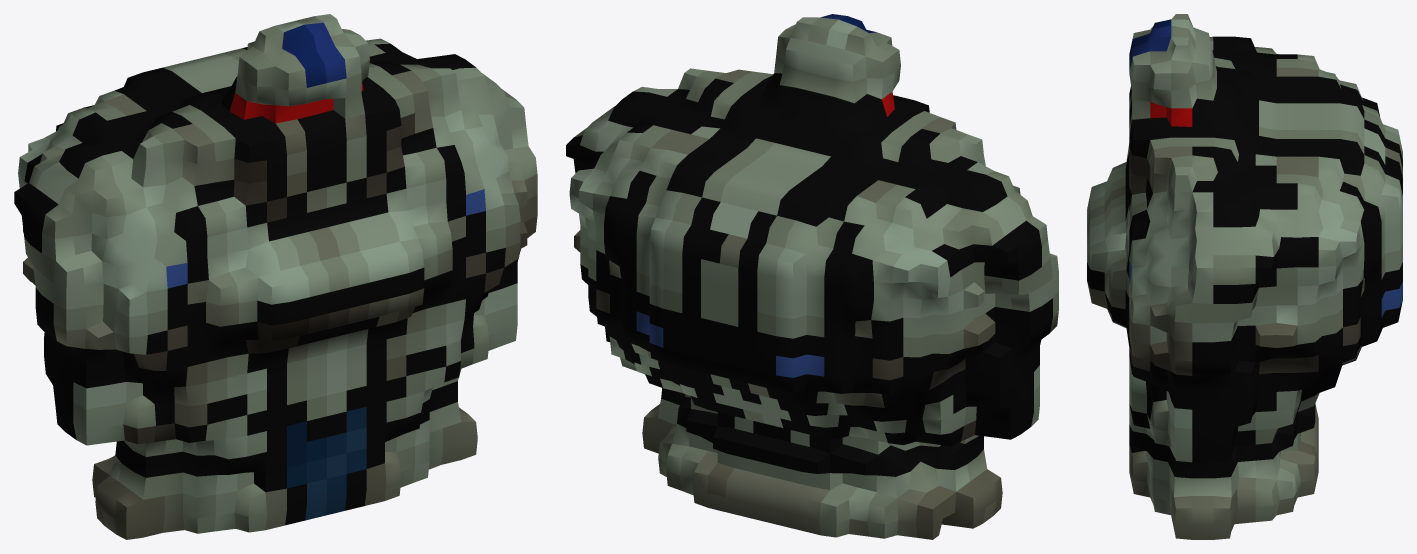
The model's file is Icon_744_02.obj.
The picture shows the model from 3 angles, left to right: view 1: azimuth 30°, elevation 25°; view 2: azimuth 150°, elevation 25°; view 3: azimuth 270°, elevation 25°; orthographic projection. The views are drawn at different scales.
Size of the model in its own units: 2.4 by 2.3 by 1.5.
1 material, 1 textured.
